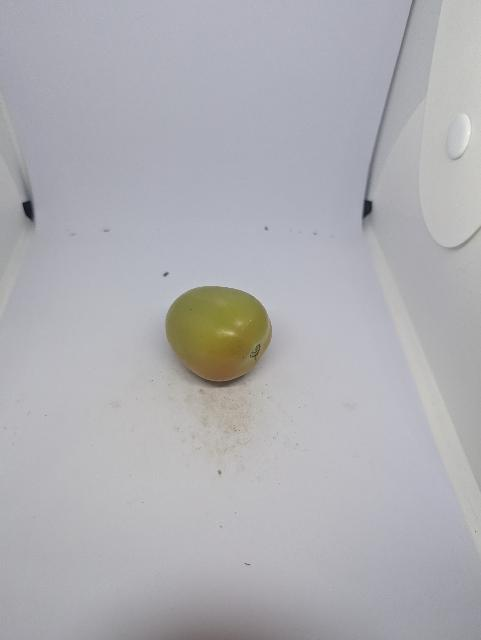breaker: (166, 286, 272, 381)
